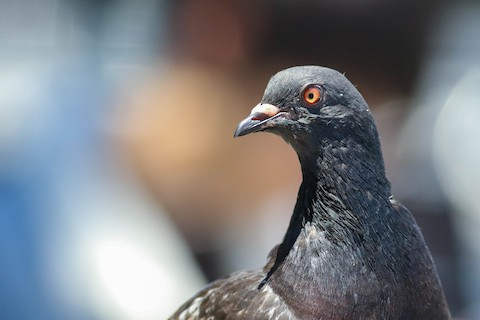pigeon: (156, 61, 457, 317)
